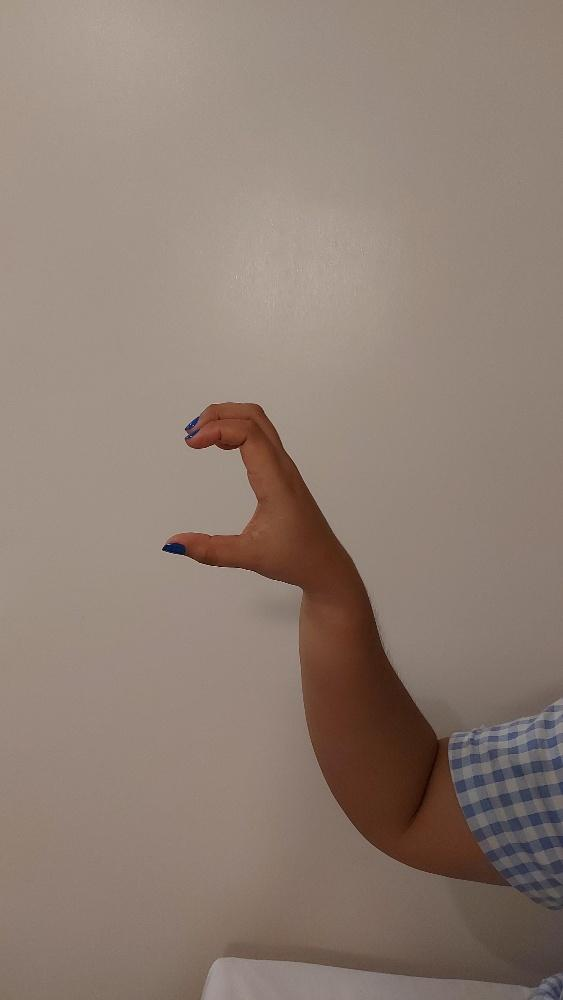c: (161, 399, 348, 585)
